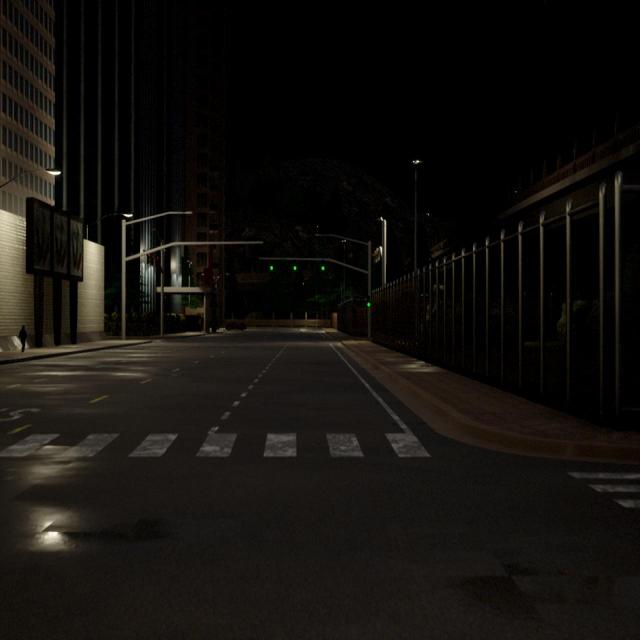Pedestrian: (18, 325, 27, 352)
Vehicle: (225, 318, 248, 331)
traffic_light: (321, 259, 325, 272), (367, 295, 371, 308), (293, 259, 297, 271), (150, 254, 154, 265), (270, 259, 273, 271), (147, 254, 150, 264), (156, 255, 158, 266)
